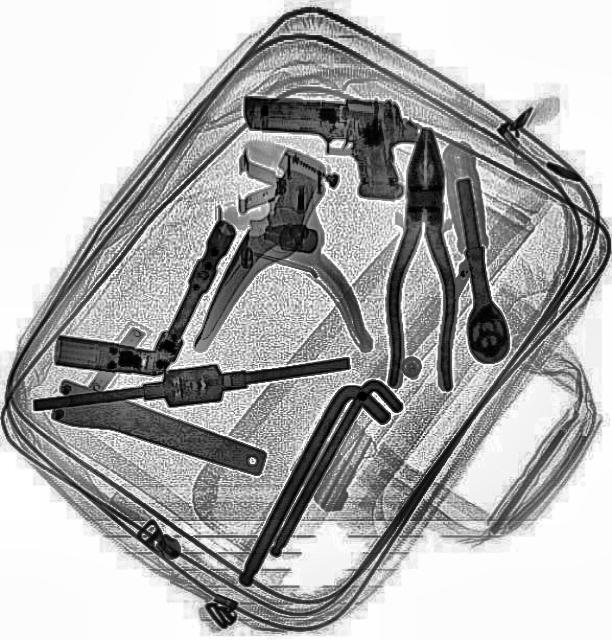Gun: (235, 90, 413, 200)
Pliers: (388, 126, 458, 392)
